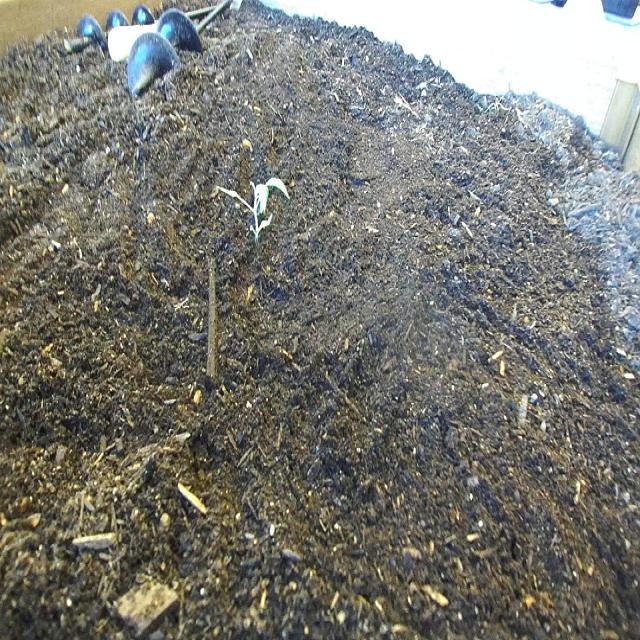Healthy: (212, 172, 294, 247)
